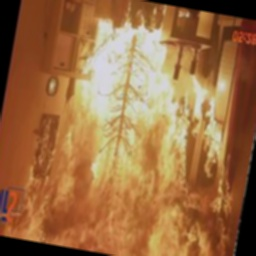fire: (0, 1, 256, 256)
